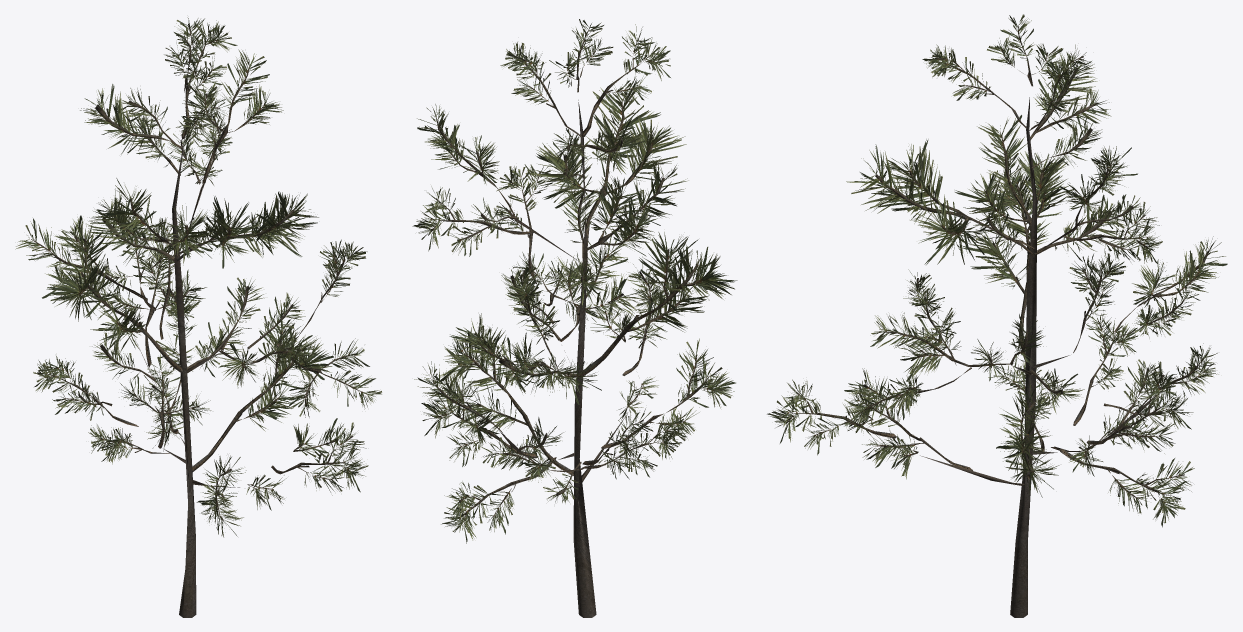
Rendered from roadside_pine.glb.
3 renders of one model, left to right at view 1: azimuth 30°, elevation 25°; view 2: azimuth 150°, elevation 25°; view 3: azimuth 270°, elevation 25°, orthographic. The views are drawn at different scales.
Visible parts, largest first — view 1: pine_sapling_small_b; view 2: pine_sapling_small_b; view 3: pine_sapling_small_b.
Part boxes in pixels (x1,y1,x2,y2): pine_sapling_small_b: (15, 17, 381, 617); pine_sapling_small_b: (412, 19, 737, 617); pine_sapling_small_b: (767, 14, 1227, 617).
Size of the model in its own units: 0.5288 by 1.05 by 0.7303.
2 materials, 2 textured.
